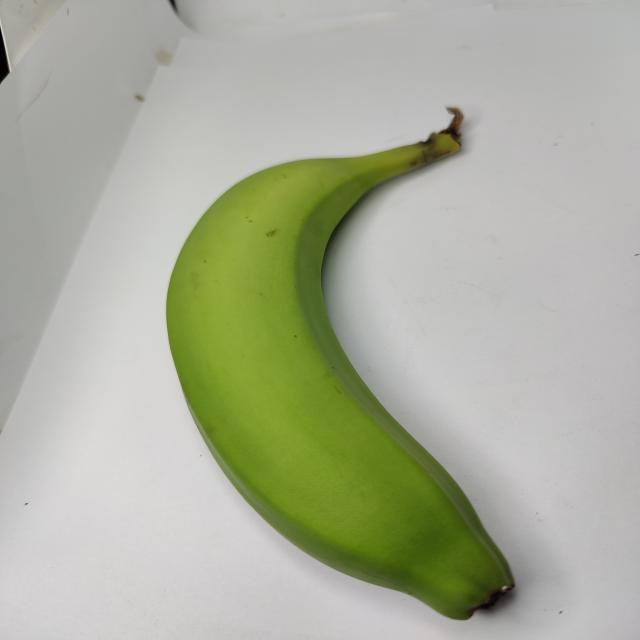raw: (126, 119, 569, 625)
